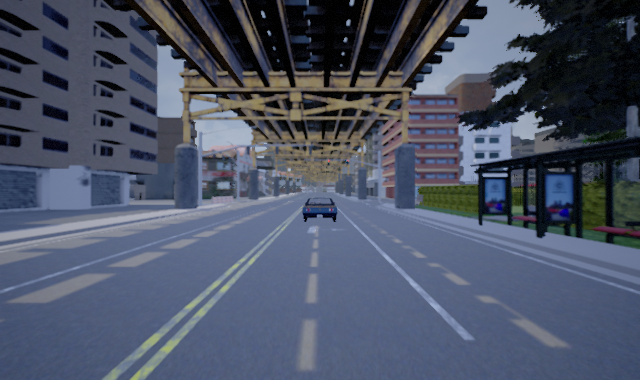vehicle: (301, 196, 337, 223)
